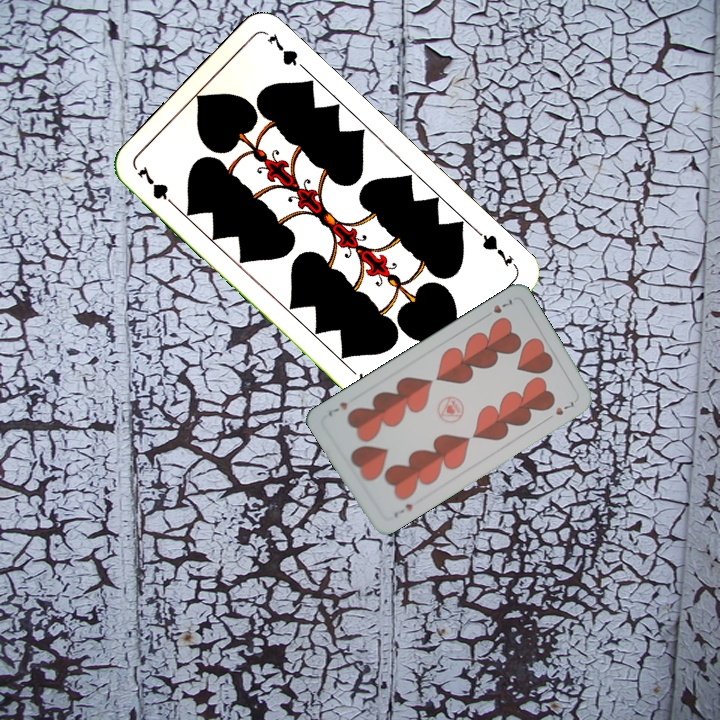G7: (133, 162, 180, 212), (473, 227, 520, 272)
H7: (480, 295, 516, 321), (390, 499, 415, 520)
